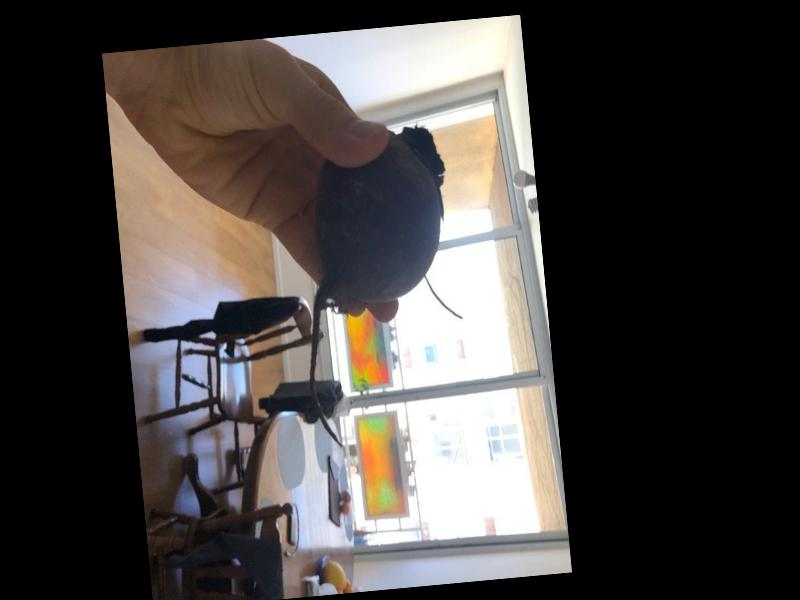Beet: (288, 124, 471, 449)
